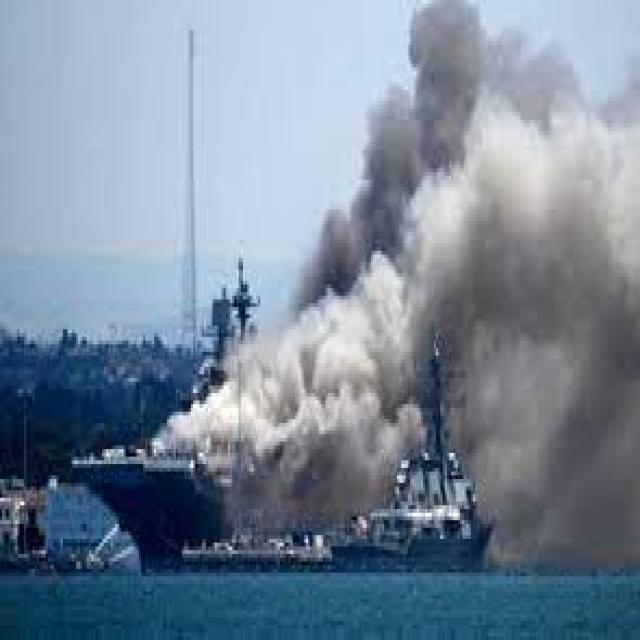navalvessels: (92, 180, 512, 576)
